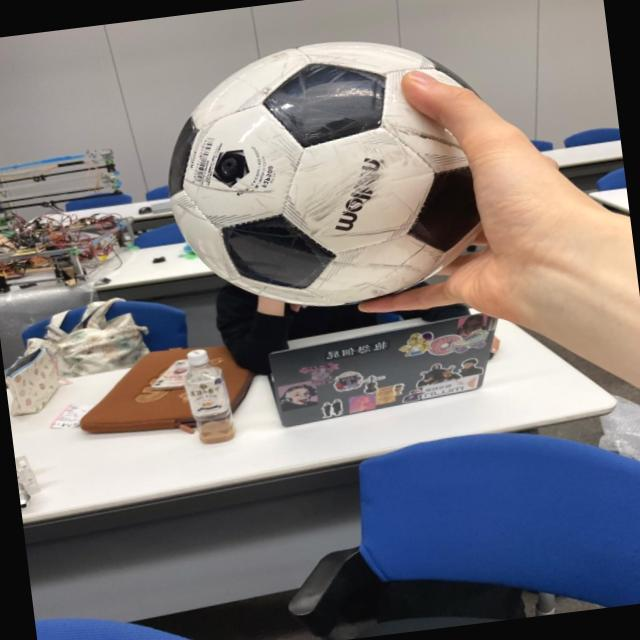Soccer Ball: (156, 29, 460, 324)
